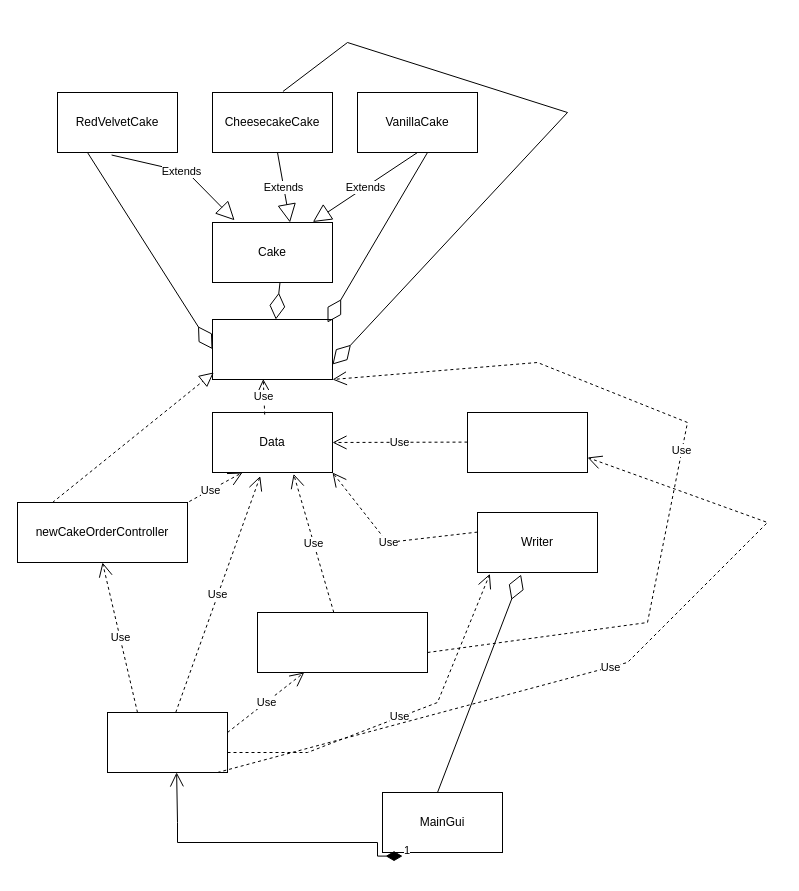
The diagram is 799 pixels wide and 891 high, and some of its shapes have lost their labels. The shapes that lost their labels are listed below. From the top down, each one's centre as x and y in pixels, then its label:
the point at 272,349: CakeOrder
the point at 527,442: Reader
the point at 342,642: modifyCakeOrderController
the point at 167,742: CakeController
